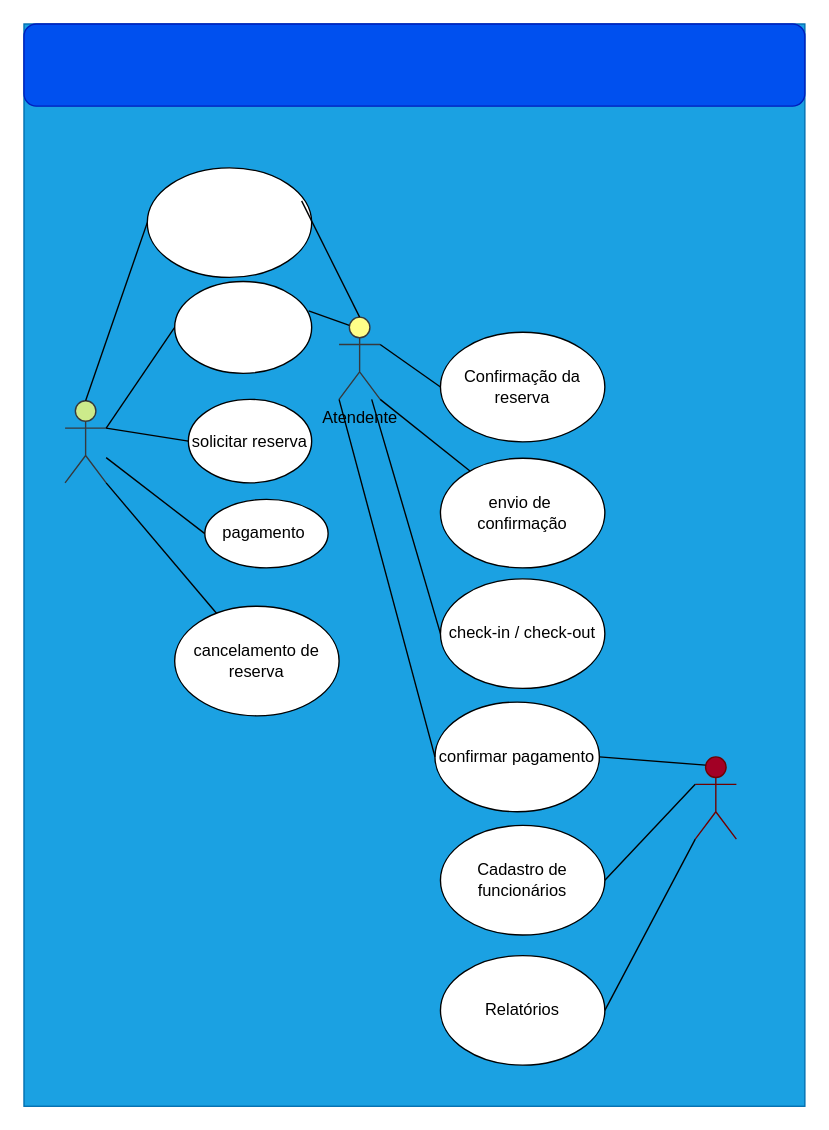
Some shapes in this 829 by 1130 pixel diagram are drawn without their labels. The shapes that lost their labels are listed below. From the top down, each one's centre as x and y in pixels, then its label:
At point 414,64: "Diagrama (Caso de Uso) Sistema de Hotel".
At point 229,221: "buscar de reserva".
At point 242,326: "criar login e usuário".
At point 85,441: "cliente".
At point 715,797: "Gerencia".
